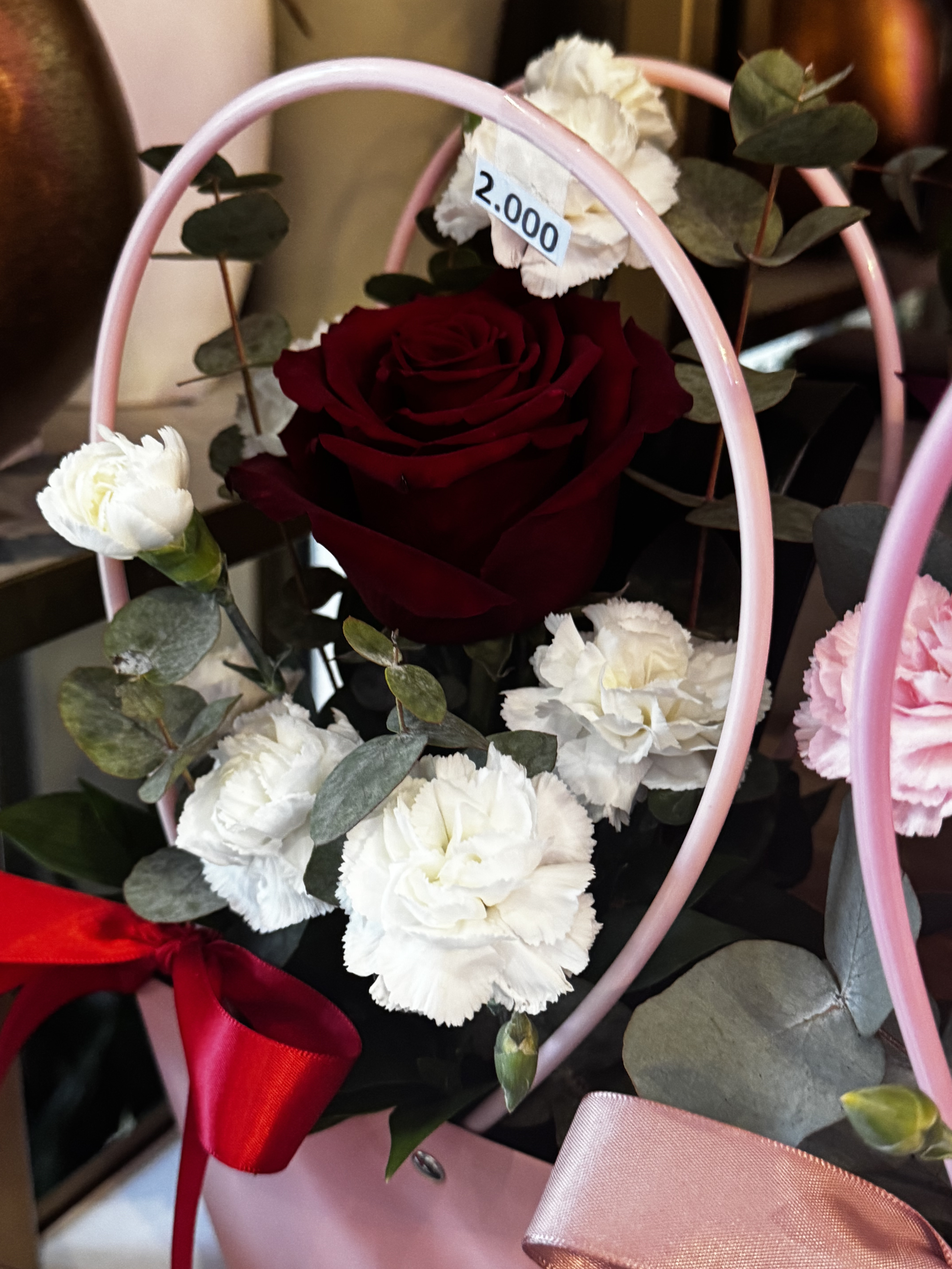rose: (229, 223, 695, 601)
